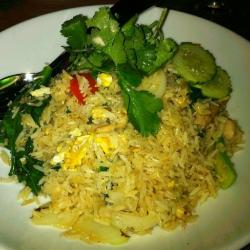rice: (43, 94, 206, 222)
salad: (66, 20, 176, 87)
